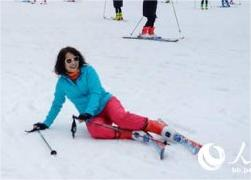bending: (29, 44, 214, 164)
